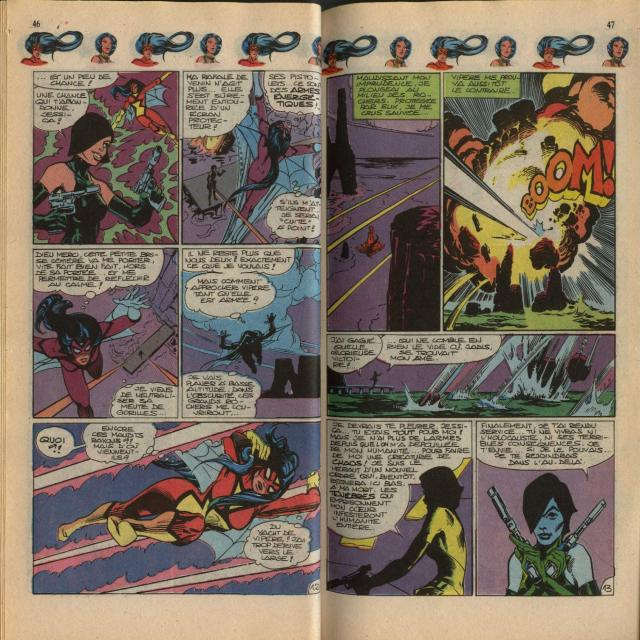comic_panel: (32, 420, 322, 597), (442, 71, 616, 331), (325, 72, 442, 333), (325, 419, 474, 599), (32, 70, 180, 246), (31, 247, 180, 421), (325, 333, 617, 419), (475, 420, 616, 598), (180, 70, 322, 246), (181, 246, 322, 419)
